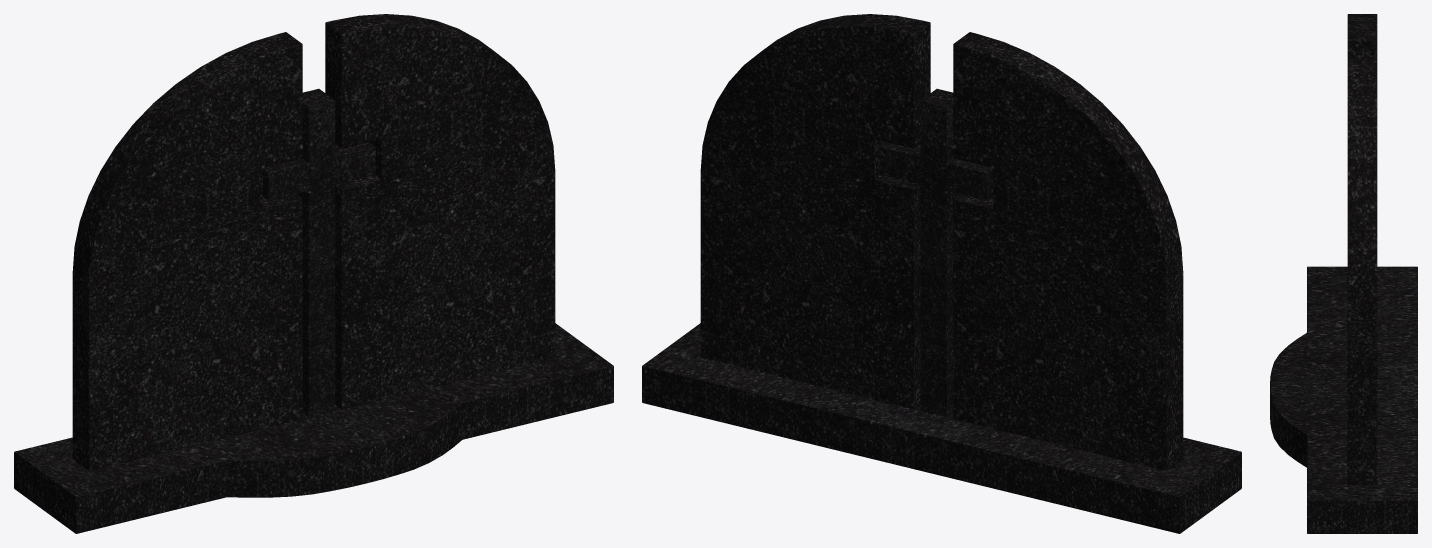
The model's file is Number 29.gltf.
The picture shows the model from 3 angles, left to right: view 1: azimuth 30°, elevation 25°; view 2: azimuth 150°, elevation 25°; view 3: azimuth 270°, elevation 25°; orthographic projection. The views are drawn at different scales.
Visible parts, largest first — view 1: Cube.033, Cube.032, Cube.034; view 2: Cube.033, Cube.032, Cube.034; view 3: Cube.032, Cube.033.
Boxes of the visible parts, box(x1,y1,x2,y2) form: Cube.033: box(72, 14, 555, 470); Cube.032: box(14, 323, 613, 533); Cube.034: box(263, 88, 375, 417); Cube.033: box(700, 14, 1183, 470); Cube.032: box(642, 323, 1241, 533); Cube.034: box(880, 88, 992, 417); Cube.032: box(1270, 266, 1417, 533); Cube.033: box(1347, 14, 1377, 484).
Bounding box in the file's own units: 1.5 × 1.1 × 0.4.
Materials: 1 (1 with a texture image).
